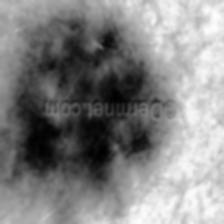Potentially Malignant Skin Tumors: (0, 12, 171, 224)
